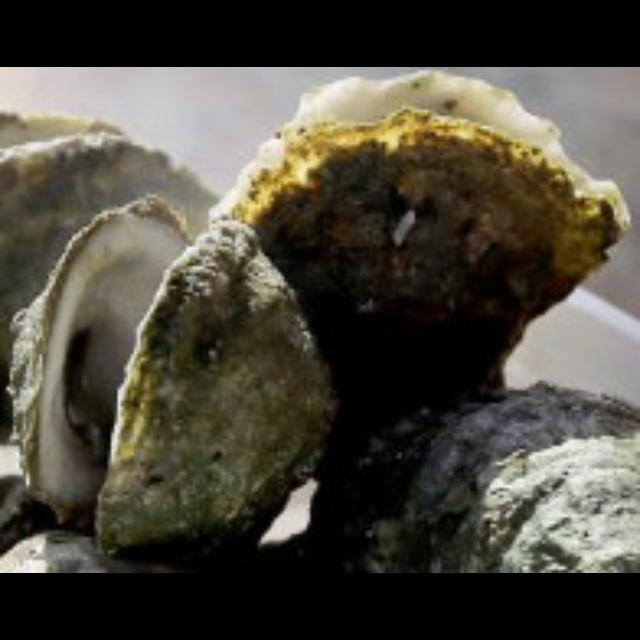Oyster-Closed: (346, 387, 640, 573), (0, 460, 169, 573)
Oyster-Open: (216, 74, 630, 483), (10, 198, 335, 562), (0, 111, 213, 444)
